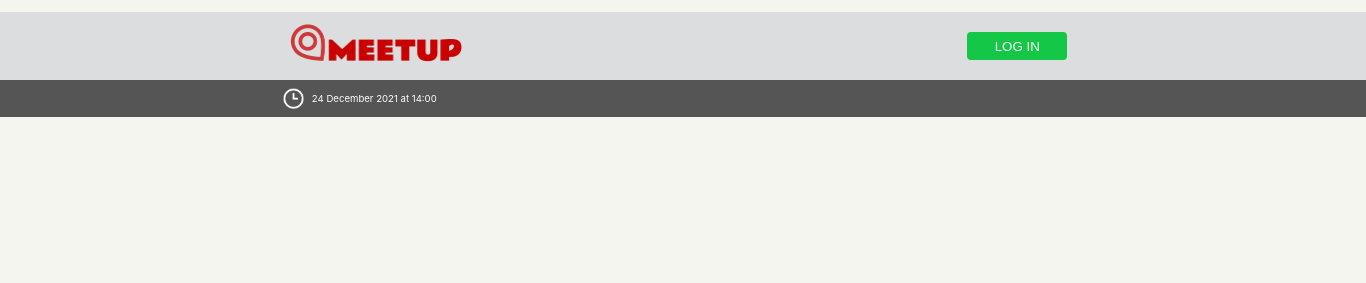
Test case: Header integration tests › shows SetTimeModal with datepicker and two buttons when TimeBanner is clicked
Click the element titled "custom time" at {"x": 683, "y": 98}, box [0,80,1365,117]
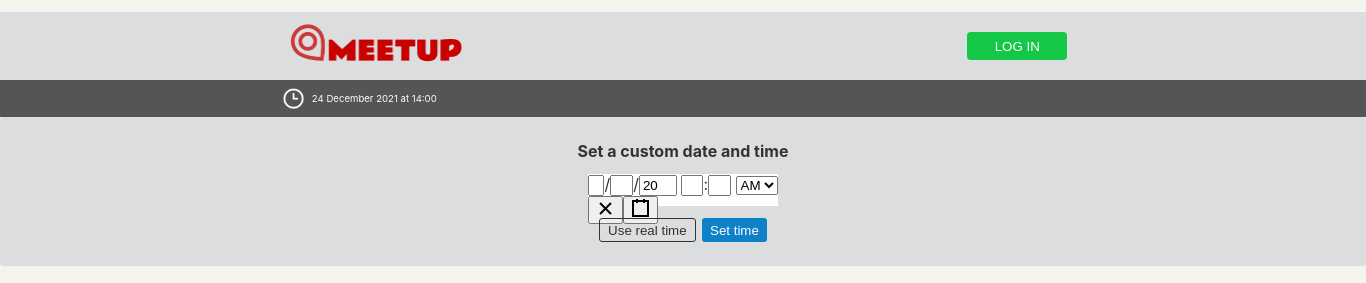
Now the element titled "set a custom date" is shown, box [0,117,1365,266]
Now the element named "Date" is shown, box [588,174,778,196]
Now the button "Use real time" is shown, box [599,218,696,242]
